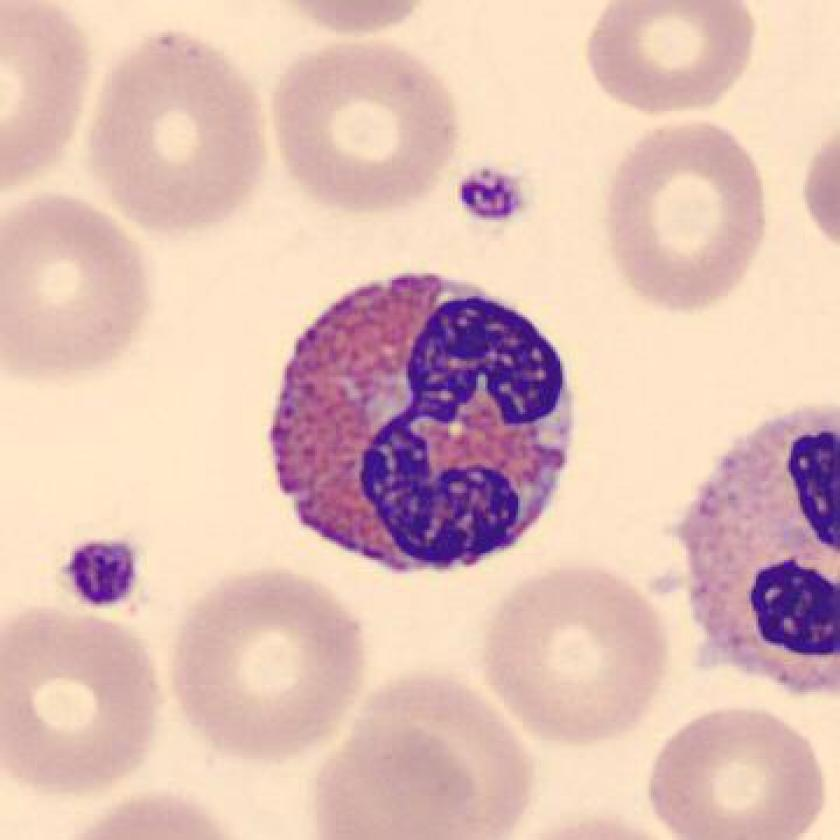eosinophil: (251, 258, 587, 598)
